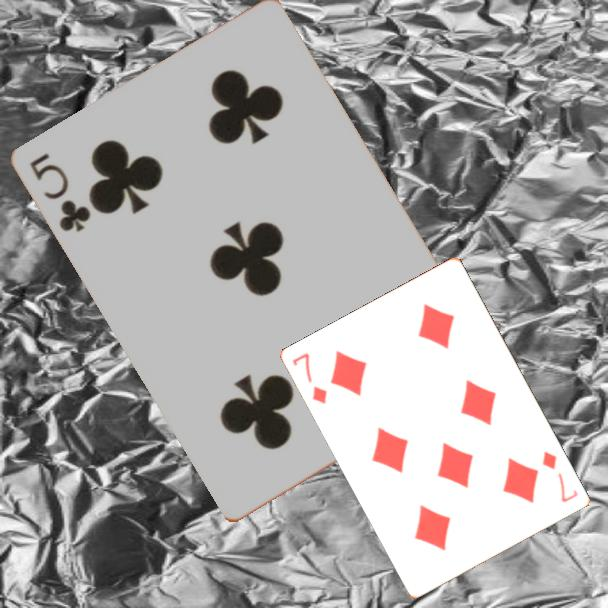c05: (26, 150, 95, 236)
d07: (539, 448, 581, 506), (289, 349, 330, 407)
